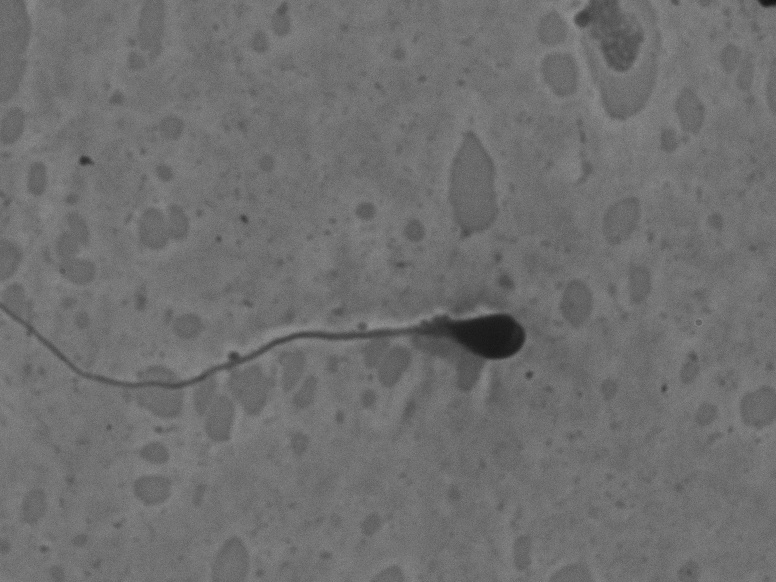Abnormal: (17, 249, 584, 443)
